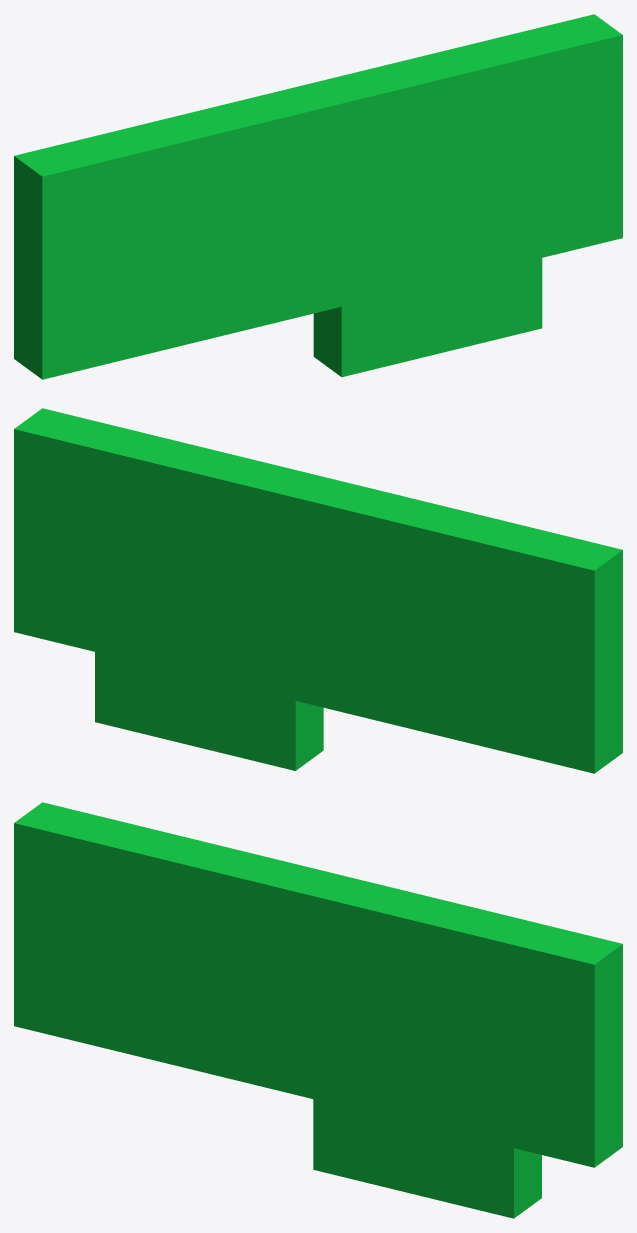
The picture shows the model from 3 angles, top to bottom: view 1: azimuth 30°, elevation 25°; view 2: azimuth 150°, elevation 25°; view 3: azimuth 330°, elevation 25°; orthographic projection.
Visible parts, largest first — view 1: Node #0, Node #1; view 2: Node #0, Node #1; view 3: Node #0, Node #1.
Boxes of the visible parts, bbox=[...] form: Node #0: bbox=[14, 14, 622, 379]; Node #1: bbox=[313, 258, 542, 376]; Node #0: bbox=[14, 408, 622, 773]; Node #1: bbox=[95, 652, 323, 770]; Node #0: bbox=[14, 802, 622, 1167]; Node #1: bbox=[313, 1099, 541, 1218].
Size of the model in its own units: 0.2316 by 0.1043 by 0.0197.
1 material, 1 textured.
